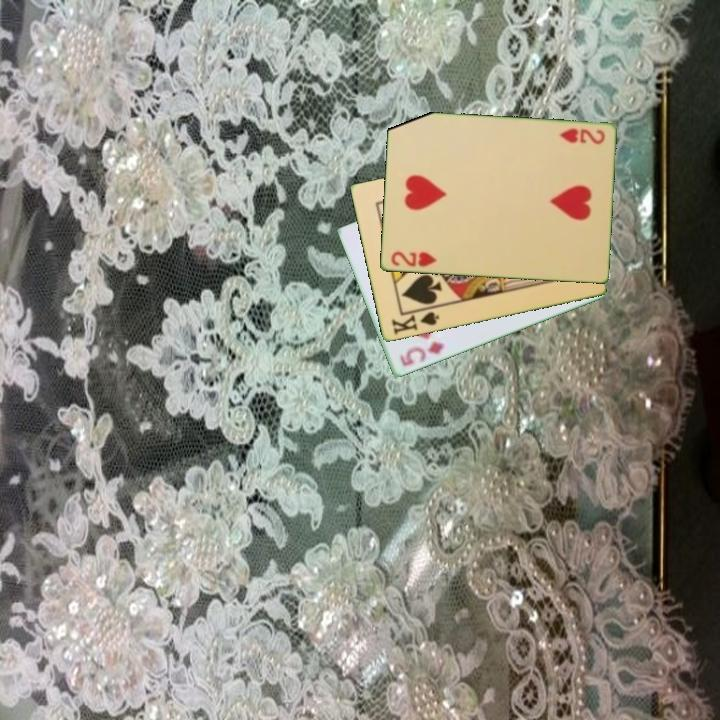2h: (555, 125, 608, 147), (387, 248, 439, 270)
5d: (396, 338, 447, 369)
Ks: (388, 305, 442, 338)
